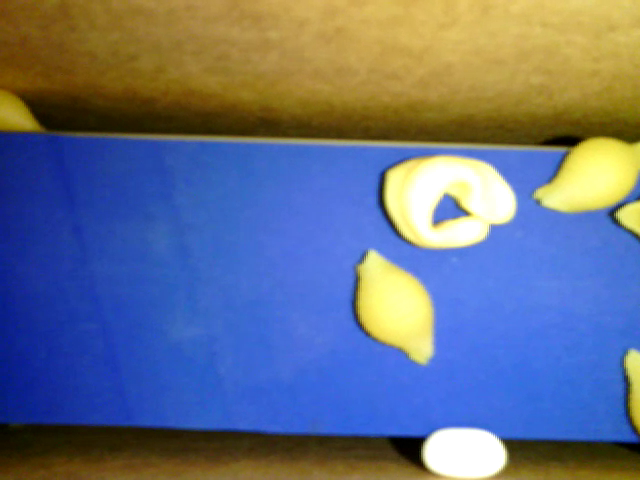shell: (354, 248, 433, 366), (531, 136, 639, 210), (1, 88, 49, 133), (624, 349, 639, 442)
tortellini: (379, 153, 516, 250)
